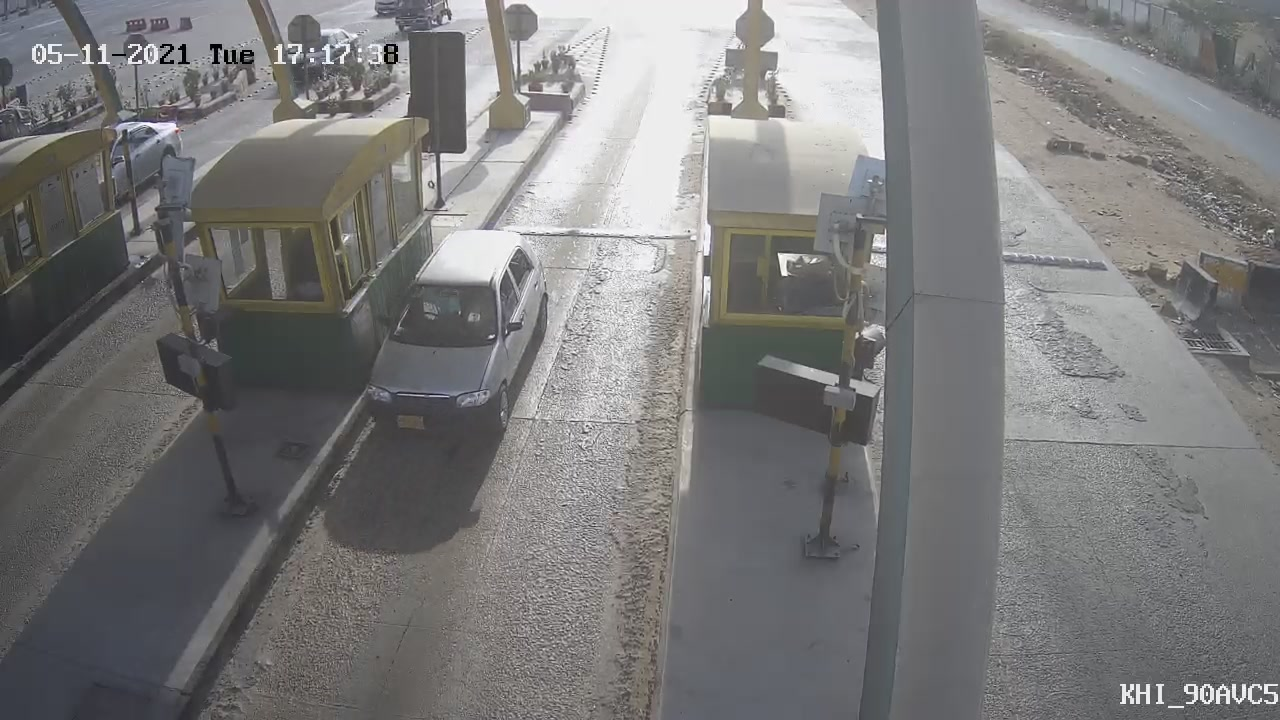F1: (330, 214, 577, 473)
